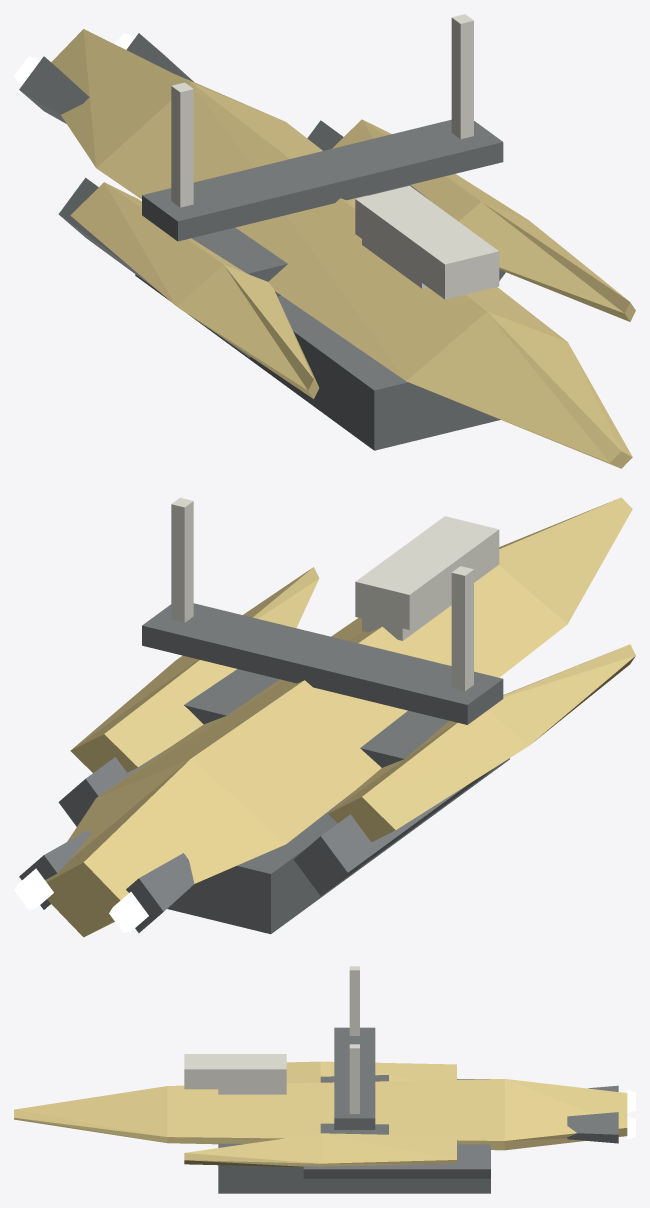
3 views of the same model, one above another, from view 1: azimuth 30°, elevation 25°; view 2: azimuth 150°, elevation 25°; view 3: azimuth 270°, elevation 25° (orthographic). The views are drawn at different scales.
Size of the model in its own units: 2.59 by 2.06 by 6.94.
